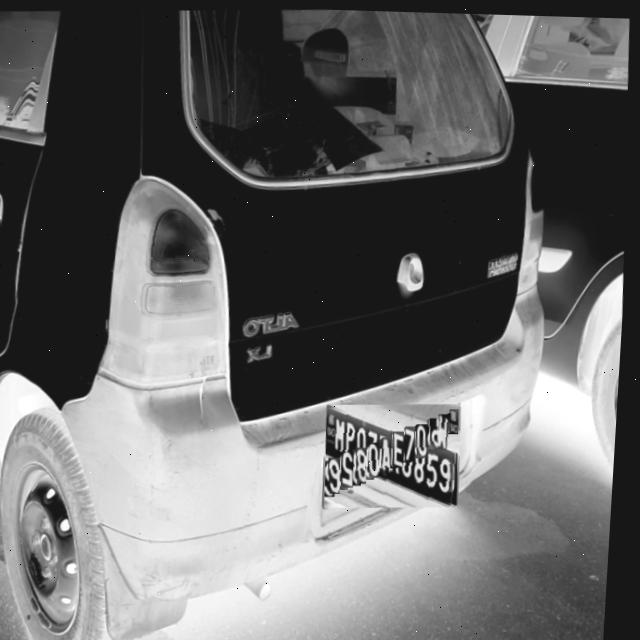0: (372, 440, 385, 475), (420, 421, 433, 454)
5: (345, 449, 360, 485)
7: (409, 423, 421, 458)
8: (359, 444, 373, 481)
9: (332, 455, 347, 491)
A: (384, 434, 397, 472)
E: (396, 428, 410, 464)
IND: (451, 405, 464, 431)
Indian_registered: (331, 405, 461, 504)
M: (442, 411, 455, 447)
P: (431, 416, 444, 448)
